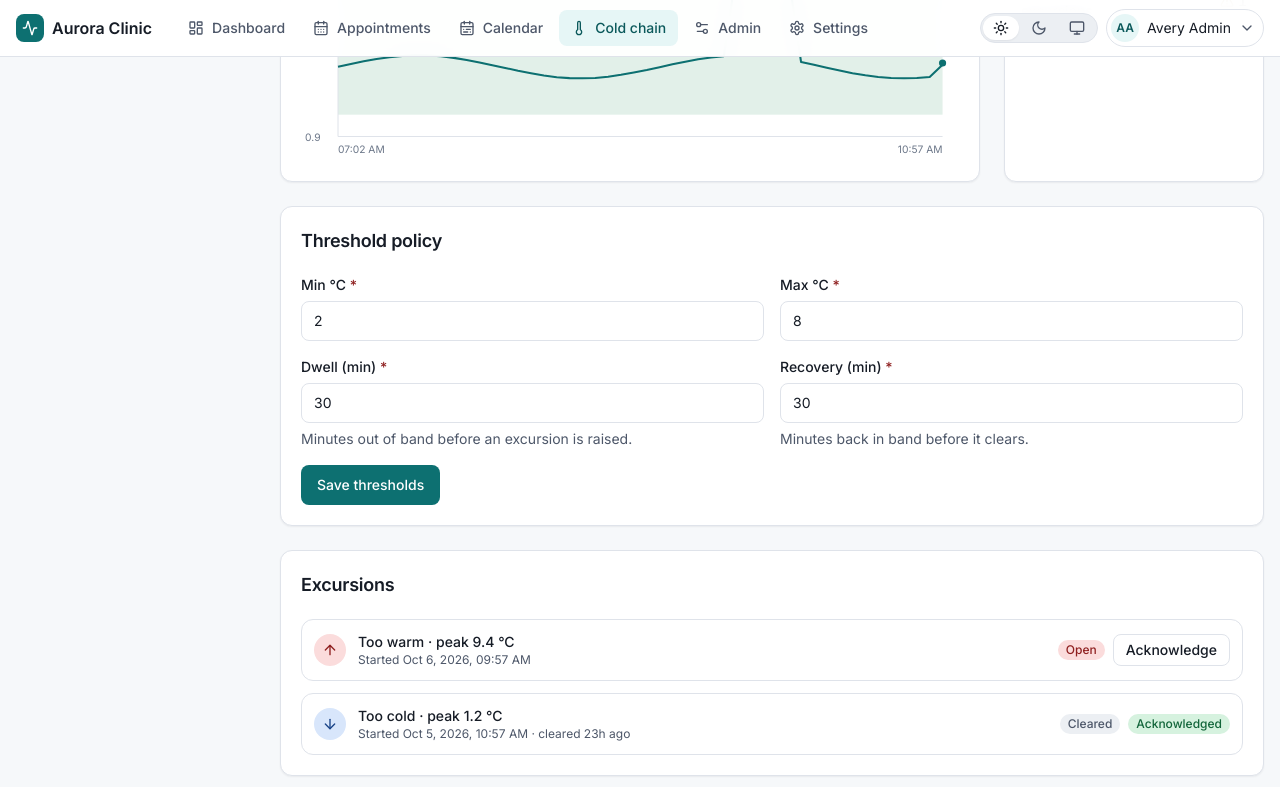
Test case: cold-chain dashboard › shows an error when acknowledging fails
(page scrolled)
Click the button "Acknowledge". click: {"x": 1171, "y": 650}
box: left=1113, top=634, right=1230, bottom=666
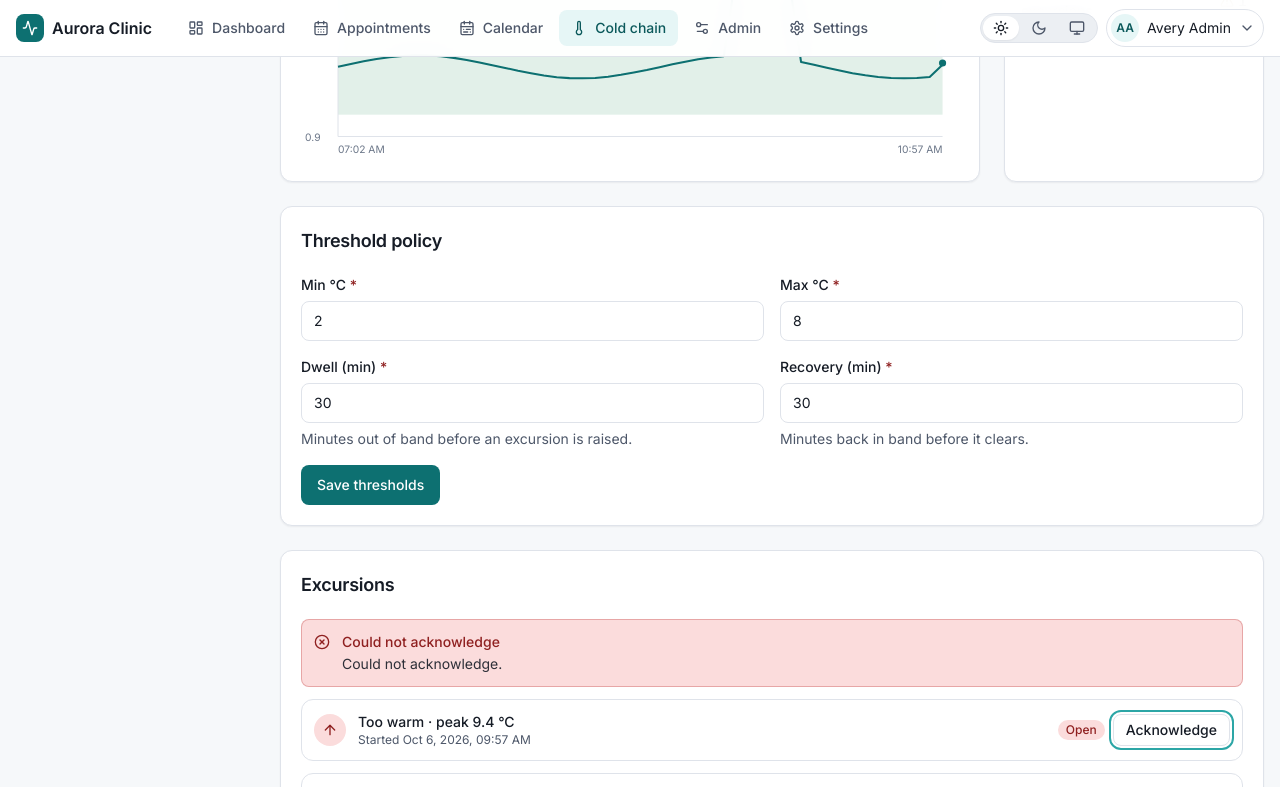
Expected: the message shows "Could not acknowledge", left=342, top=633, right=500, bottom=650
